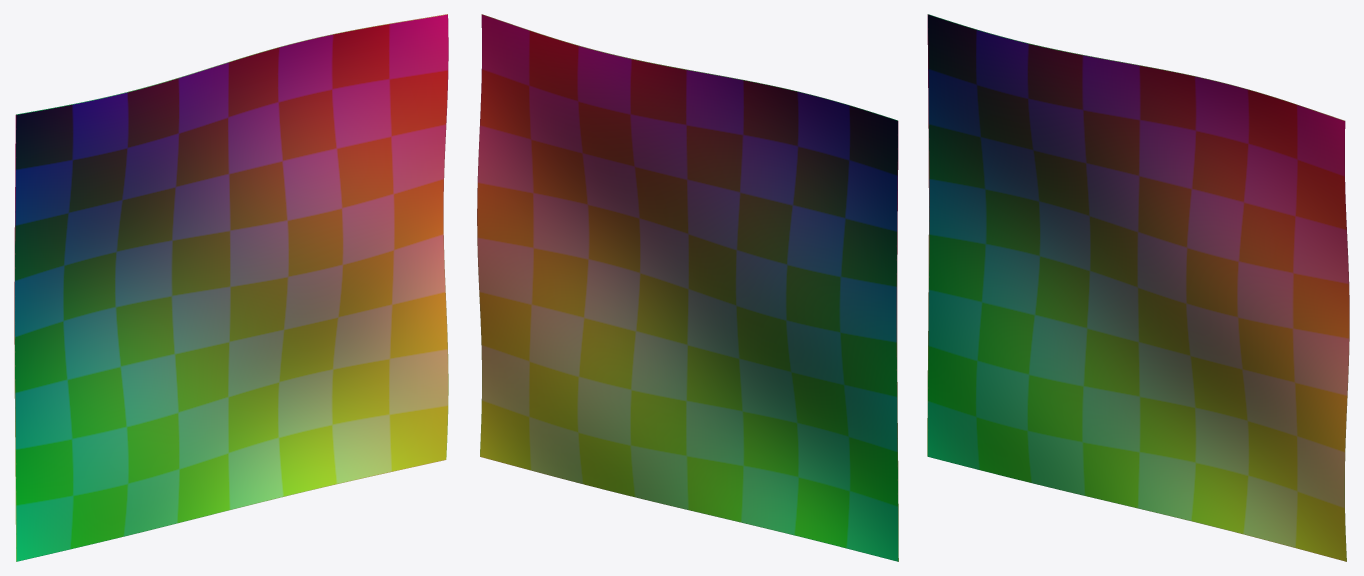
Rendered from Tile_+011_+003.obj.
The picture shows the model from 3 angles, left to right: view 1: azimuth 30°, elevation 25°; view 2: azimuth 150°, elevation 25°; view 3: azimuth 330°, elevation 25°; orthographic projection.
Bounding box in the file's own units: 100 × 100 × 5.81.
